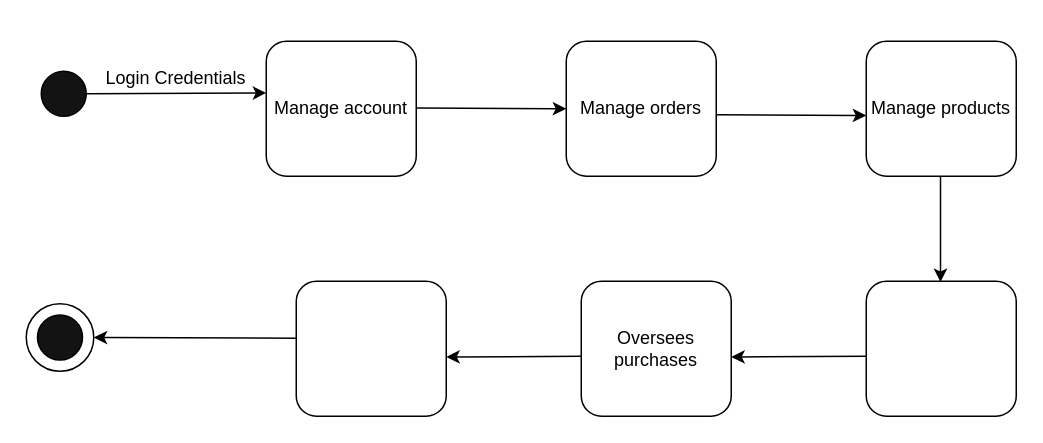
Image size: 1043x443. Some labels were removed from this diagram. Here are the shapes that lost their labels. From the top down, the box of each, then its label:
(295, 280, 446, 416): Oversees payment process
(865, 280, 1016, 416): Oversees discounts
